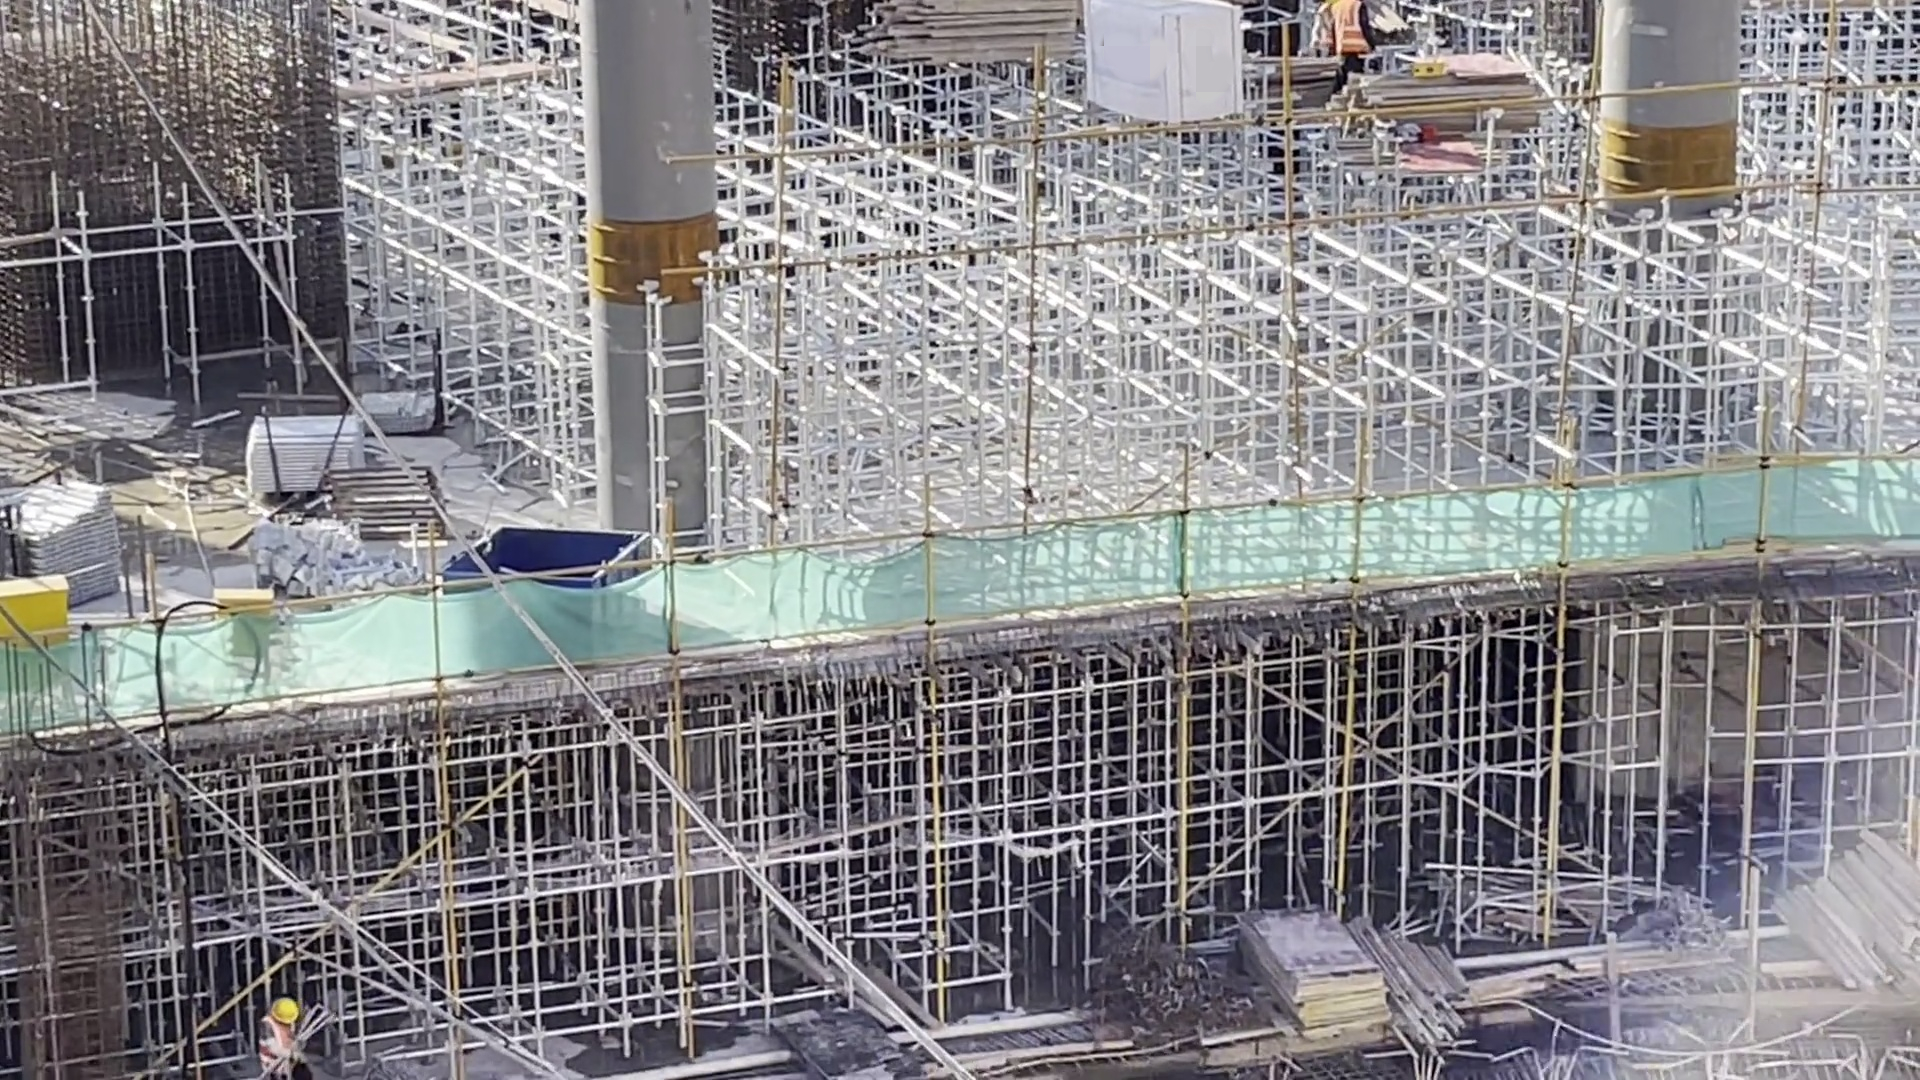board: (1239, 906, 1394, 1051), (1343, 57, 1528, 137)
ebox: (21, 589, 139, 657), (219, 581, 276, 664)
helmet: (268, 996, 296, 1017)
hopper: (466, 526, 641, 672)
person: (256, 986, 302, 1080), (1342, 1, 1379, 66), (1323, 1, 1338, 46)
scaffold: (24, 464, 123, 619), (239, 426, 338, 506)
vest: (1342, 1, 1375, 56), (263, 1024, 296, 1071), (1325, 2, 1336, 41)
wood: (1806, 822, 1920, 974), (879, 1, 1076, 59)
